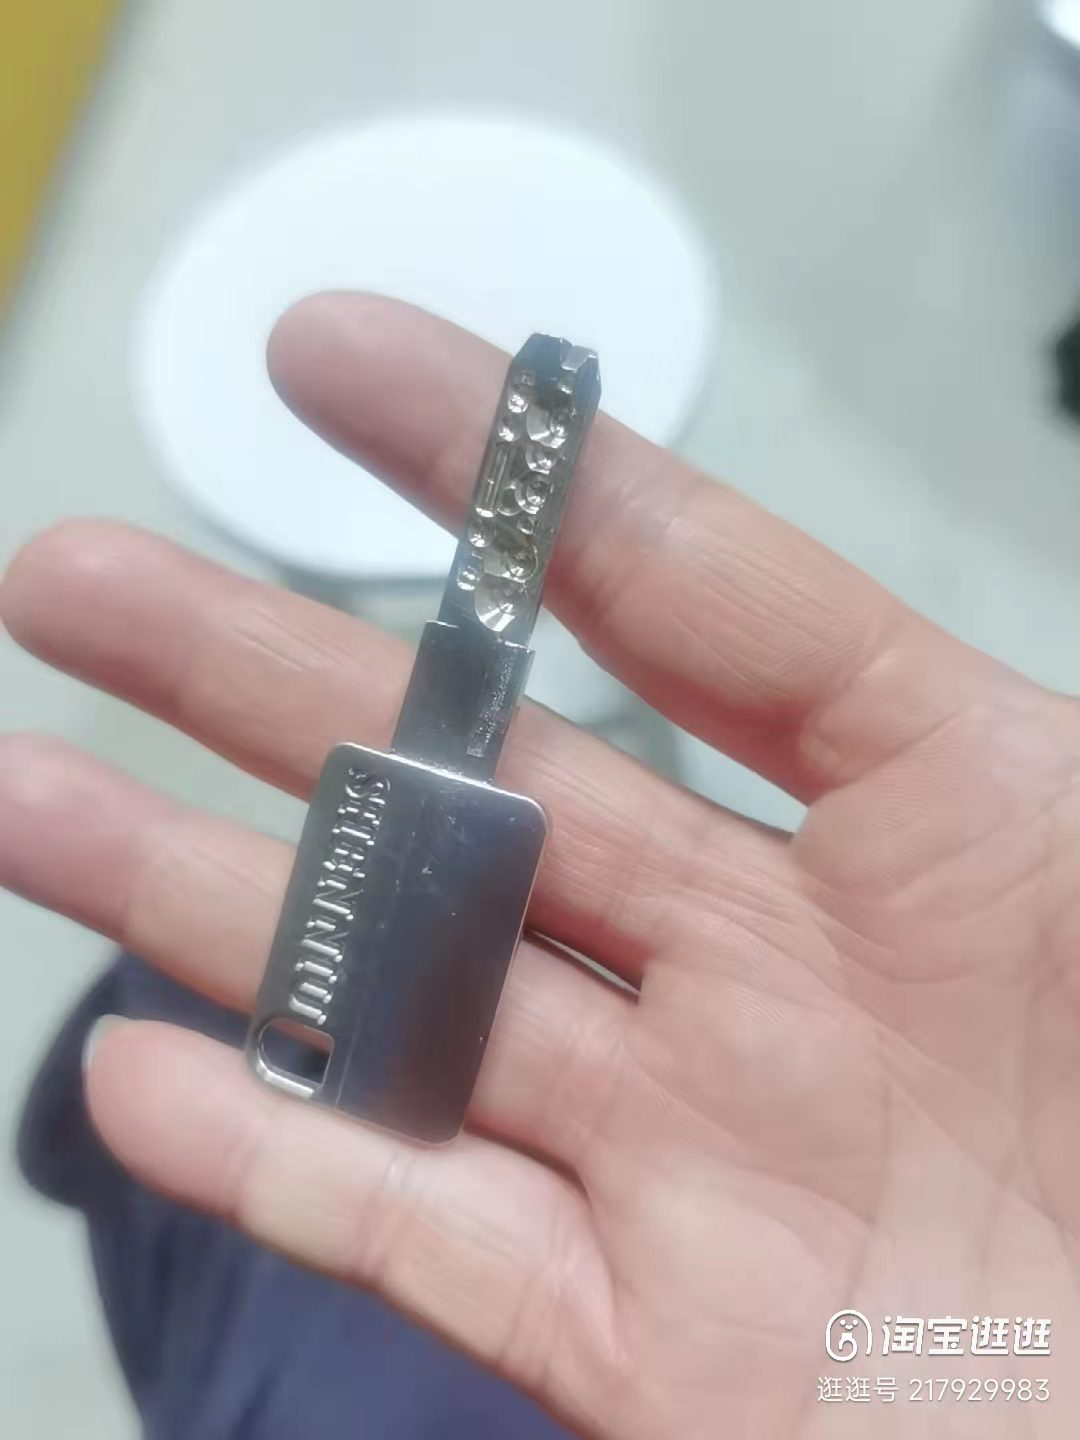key: (230, 327, 610, 1162)
